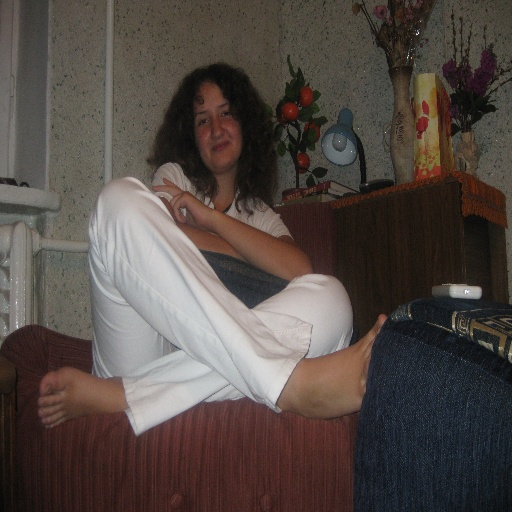hand: (150, 176, 211, 231)
